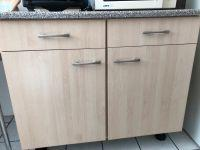cabinet_door: (9, 50, 105, 147), (108, 49, 192, 137), (0, 22, 105, 50), (107, 20, 198, 45)
handle: (36, 31, 73, 41), (111, 56, 143, 66), (71, 60, 103, 69), (141, 29, 172, 37)
